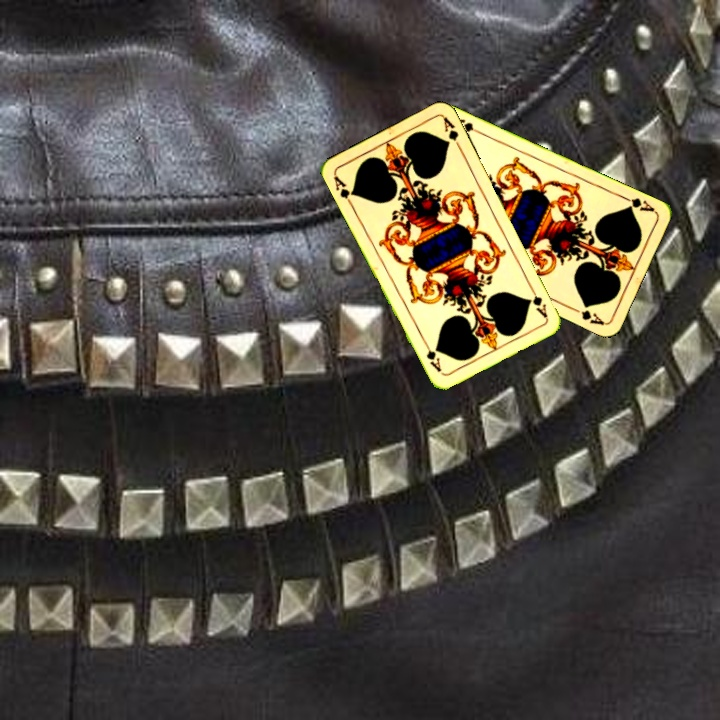GA: (329, 171, 358, 209), (526, 282, 550, 320), (618, 192, 657, 215)
